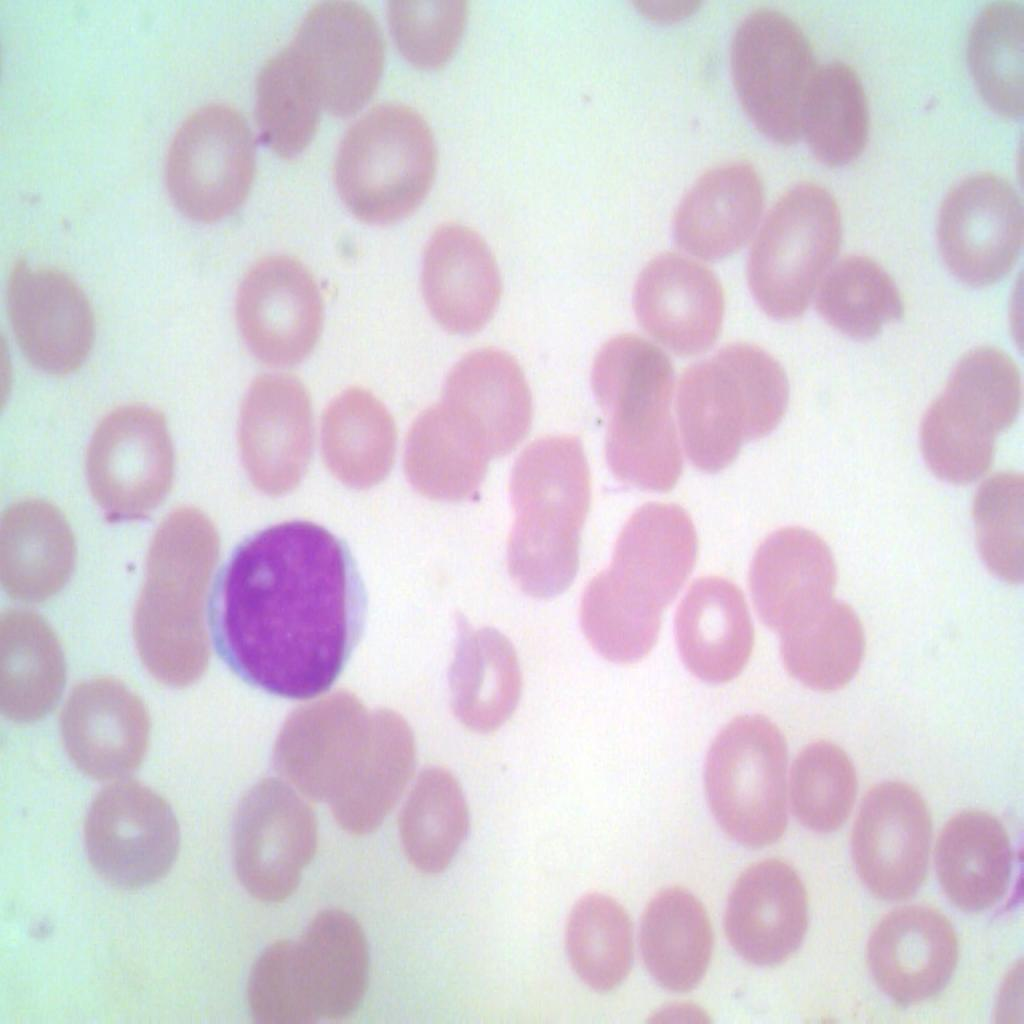Eritrosit: (211, 772, 319, 906), (701, 710, 808, 838), (738, 178, 834, 319), (80, 388, 178, 522), (0, 252, 101, 382), (730, 10, 821, 152), (164, 95, 259, 227), (928, 157, 1023, 287), (88, 781, 184, 904), (266, 682, 372, 792), (774, 584, 874, 698), (746, 518, 843, 635), (50, 674, 158, 776), (321, 719, 415, 835), (331, 111, 429, 222), (723, 854, 815, 972), (418, 221, 506, 344), (241, 248, 333, 365), (674, 148, 768, 262), (854, 764, 935, 895), (666, 574, 754, 694), (444, 340, 533, 456), (231, 370, 313, 495), (290, 895, 370, 1023), (318, 381, 398, 508), (0, 490, 88, 604), (931, 790, 1019, 904), (902, 392, 1003, 490), (628, 882, 719, 989), (866, 904, 963, 1004), (636, 248, 726, 354), (604, 498, 693, 605), (406, 398, 488, 512), (135, 500, 224, 604), (244, 44, 328, 154), (502, 431, 590, 534), (398, 764, 479, 874), (794, 61, 874, 172), (450, 616, 526, 730), (129, 591, 215, 691), (578, 572, 659, 678), (602, 394, 684, 498), (0, 610, 71, 729), (296, 8, 381, 104), (712, 344, 798, 438), (961, 1, 1023, 128), (818, 246, 899, 340), (942, 344, 1023, 435), (674, 367, 746, 468), (594, 338, 676, 424), (964, 459, 1023, 577), (563, 892, 636, 986), (242, 939, 319, 1023), (384, 0, 468, 75), (502, 519, 576, 594), (793, 744, 851, 831)
Limfoblast: (203, 517, 374, 702)
Platelet: (254, 115, 290, 157), (464, 481, 495, 521), (118, 550, 142, 572)
